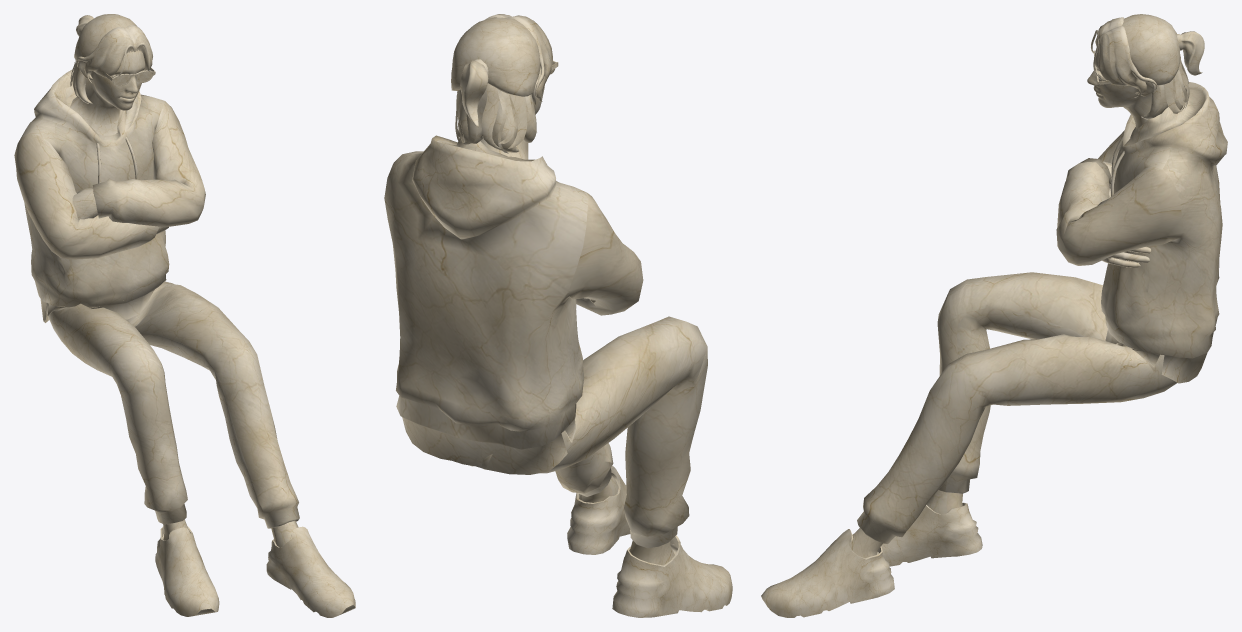
Rendered from Sample_Avatar_M_Sit_003.fbx.
3 views of the same model, side by side, from view 1: azimuth 30°, elevation 25°; view 2: azimuth 150°, elevation 25°; view 3: azimuth 270°, elevation 25° (orthographic). The views are drawn at different scales.
Parts seen in each view (by area): view 1: Sample_Avatar_M_Sit_003; view 2: Sample_Avatar_M_Sit_003; view 3: Sample_Avatar_M_Sit_003.
Part boxes in pixels (box(x1,y1,x2,y2)): Sample_Avatar_M_Sit_003: box(14, 14, 355, 617); Sample_Avatar_M_Sit_003: box(384, 14, 732, 617); Sample_Avatar_M_Sit_003: box(761, 14, 1227, 617).
Size of the model in its own units: 0.5058 by 1.39 by 1.05.
